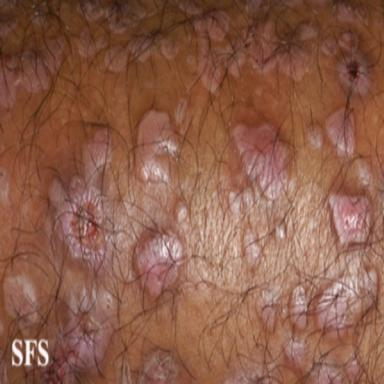Epidermolysis-Bullosa-Pruriginosa: (0, 1, 384, 110), (51, 128, 111, 268), (316, 259, 377, 329), (234, 123, 287, 200), (66, 287, 116, 368), (133, 230, 183, 300), (135, 110, 178, 186), (119, 349, 191, 384), (2, 268, 38, 327), (329, 194, 371, 244), (306, 354, 361, 384), (325, 109, 355, 157), (257, 287, 280, 332), (289, 285, 307, 329), (229, 188, 253, 216), (243, 228, 260, 267), (284, 339, 305, 367), (226, 369, 257, 382), (0, 171, 10, 206), (171, 202, 187, 223), (308, 127, 323, 149)
